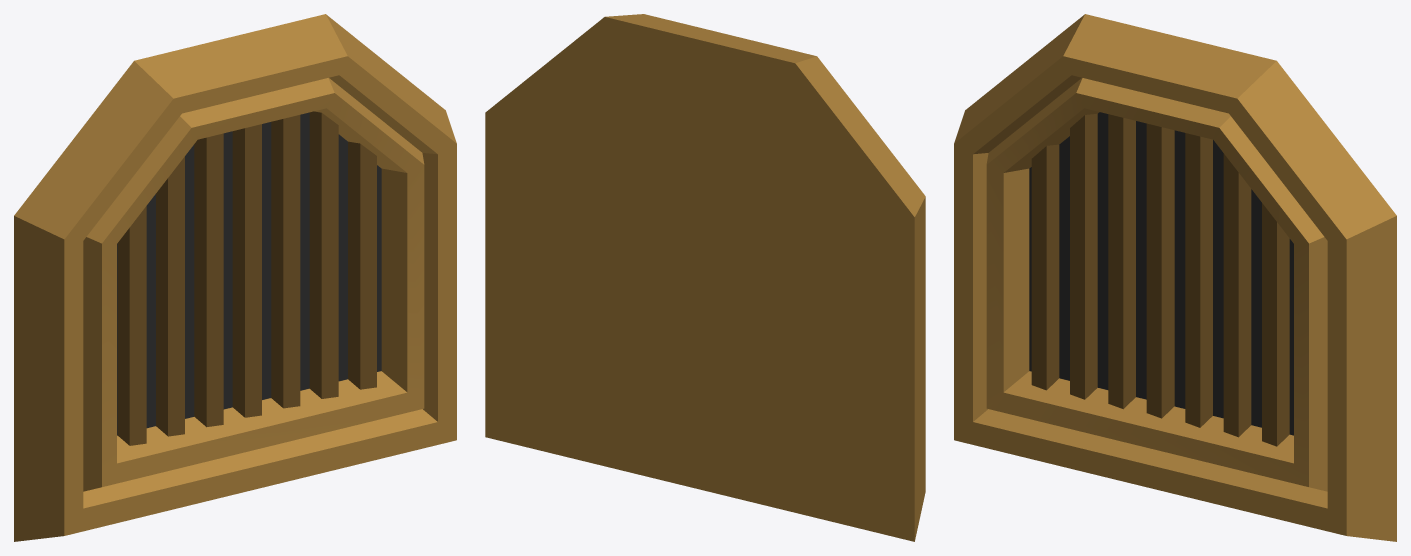
File: Details_Vent_2.glb
3 views of the same model, side by side, from view 1: azimuth 30°, elevation 25°; view 2: azimuth 150°, elevation 25°; view 3: azimuth 330°, elevation 25° (orthographic).
Parts seen in each view (by area): view 1: Details_Vent_2; view 2: Details_Vent_2; view 3: Details_Vent_2.
Part boxes in pixels (box(x1,y1,x2,y2)): Details_Vent_2: box(14, 14, 456, 541); Details_Vent_2: box(485, 14, 925, 541); Details_Vent_2: box(954, 14, 1396, 541).
Bounding box in the file's own units: 0.1054 × 0.1054 × 0.014.
